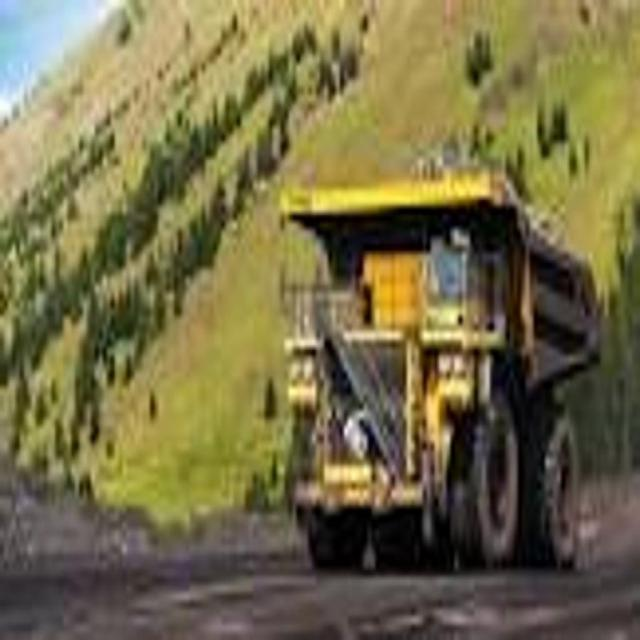dump_truck: (278, 134, 598, 596)
